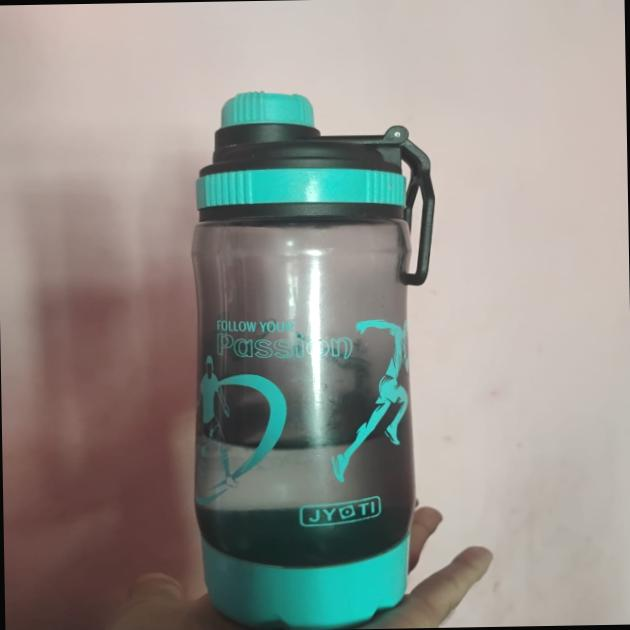waterbottle: (172, 80, 446, 628)
